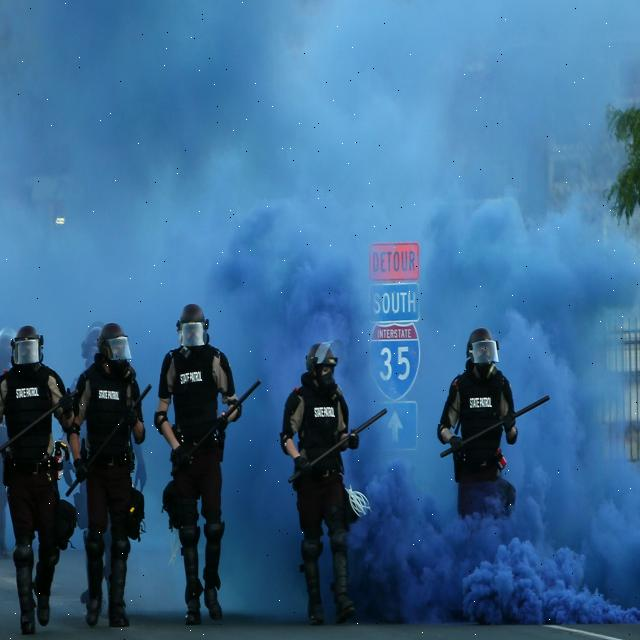police: (140, 302, 246, 631), (421, 323, 541, 603), (280, 312, 364, 633), (65, 309, 146, 631), (0, 322, 72, 619)
